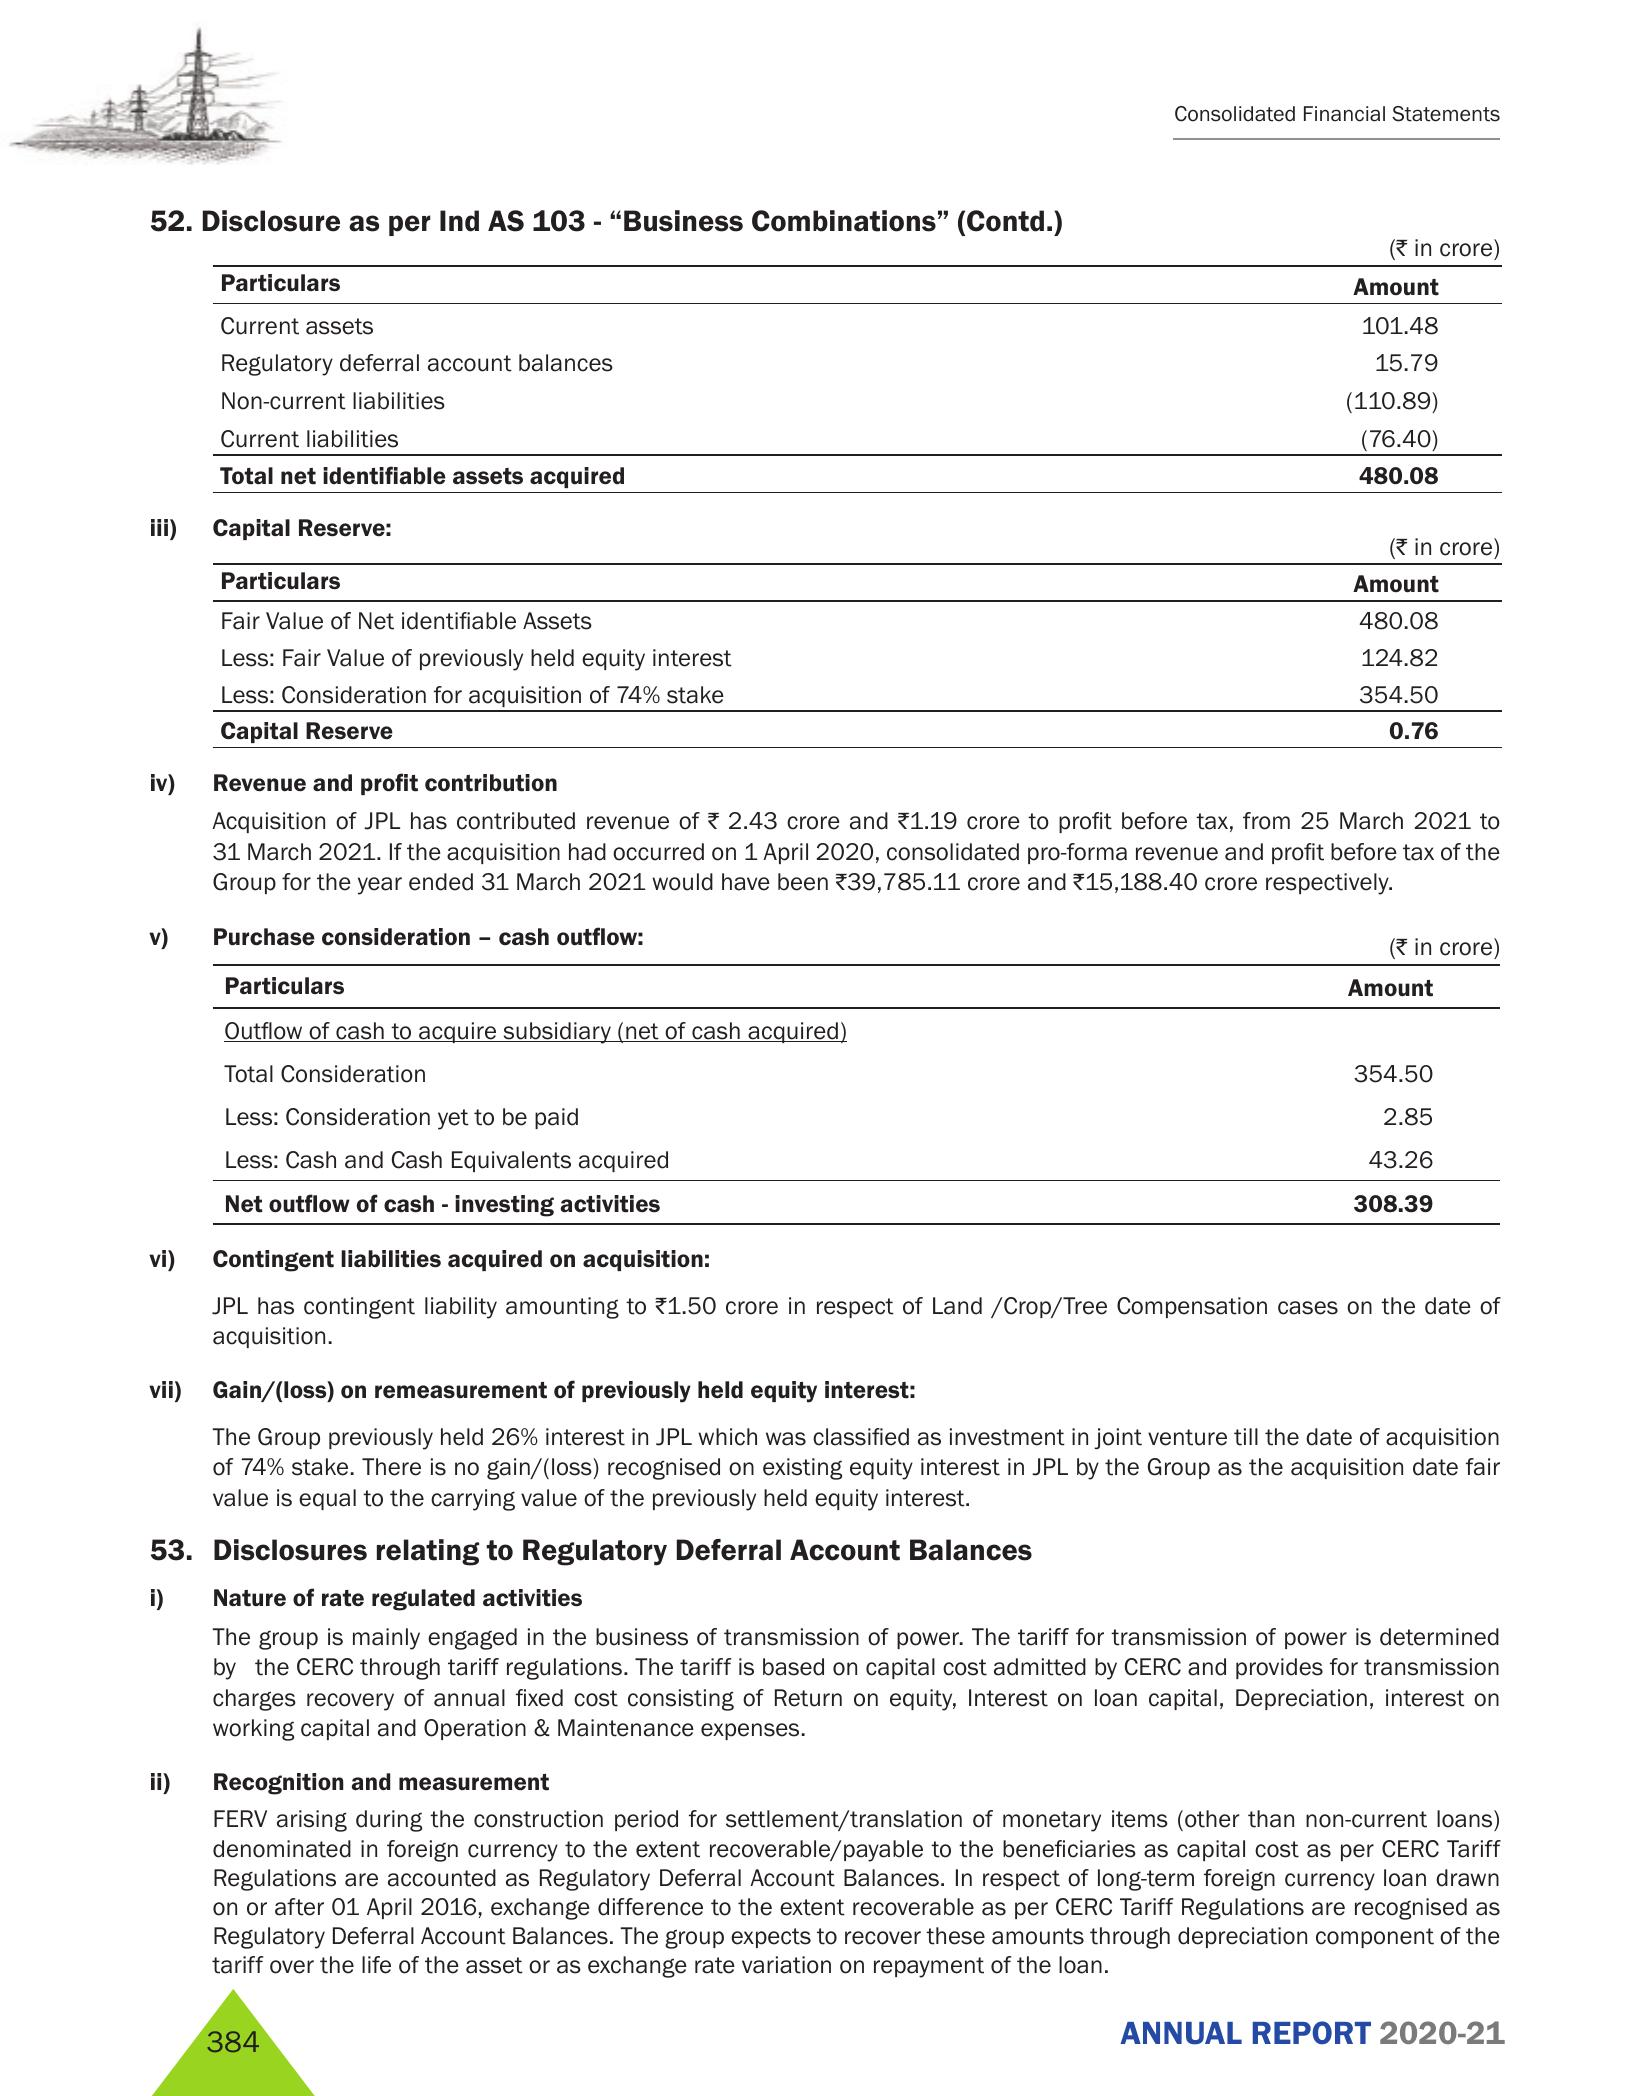Footer: (0, 1974, 1650, 2096)
Header: (0, 0, 1650, 180)
Table: (179, 910, 1539, 1177), (90, 257, 1511, 493), (204, 548, 1551, 749)
